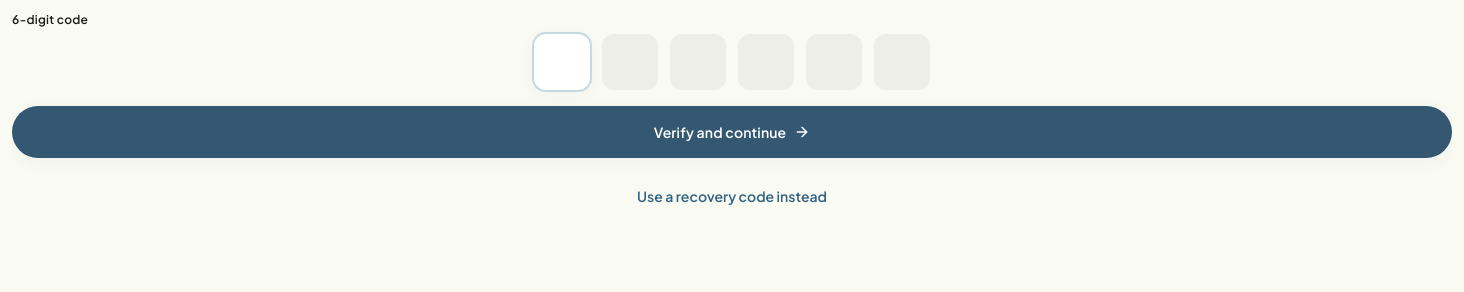
Scenario: TwoFactorForm › shows a rate limit as a banner
Type "123456" into the field named "Digit 1" at (562, 62), box 534,34 -> 590,90
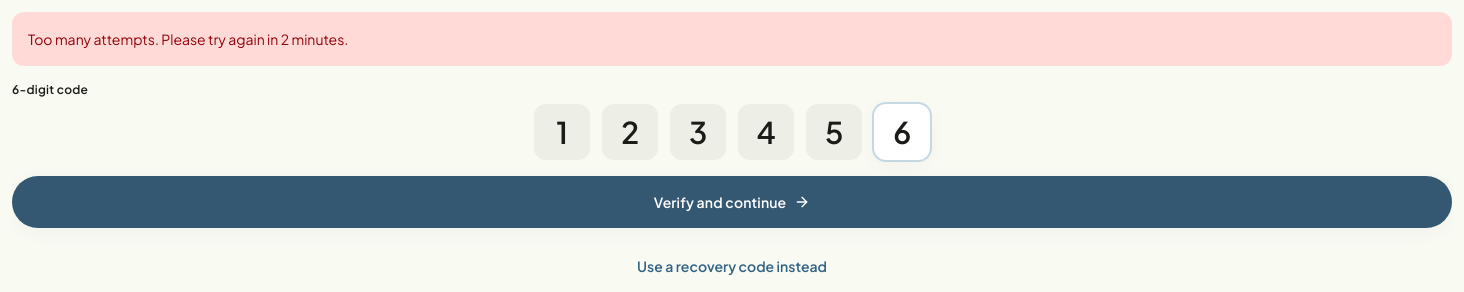
Now the message shows "Too many attempts.", box 28,30 -> 348,48
